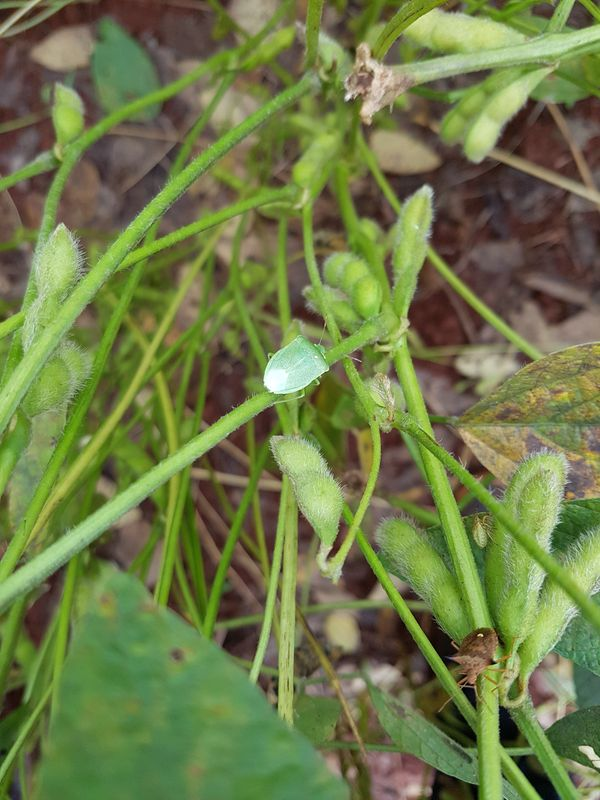Euschistus_heros_adulto: (433, 623, 519, 716)
Euschistus_heros_ninfa: (458, 508, 504, 555)
Nezara_viridula_adulto: (256, 316, 362, 407)
